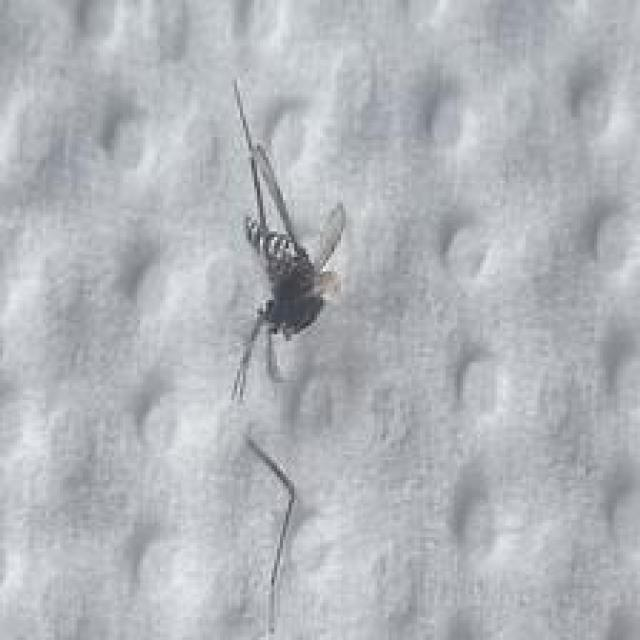Aedes albopictus: (224, 77, 347, 403)
